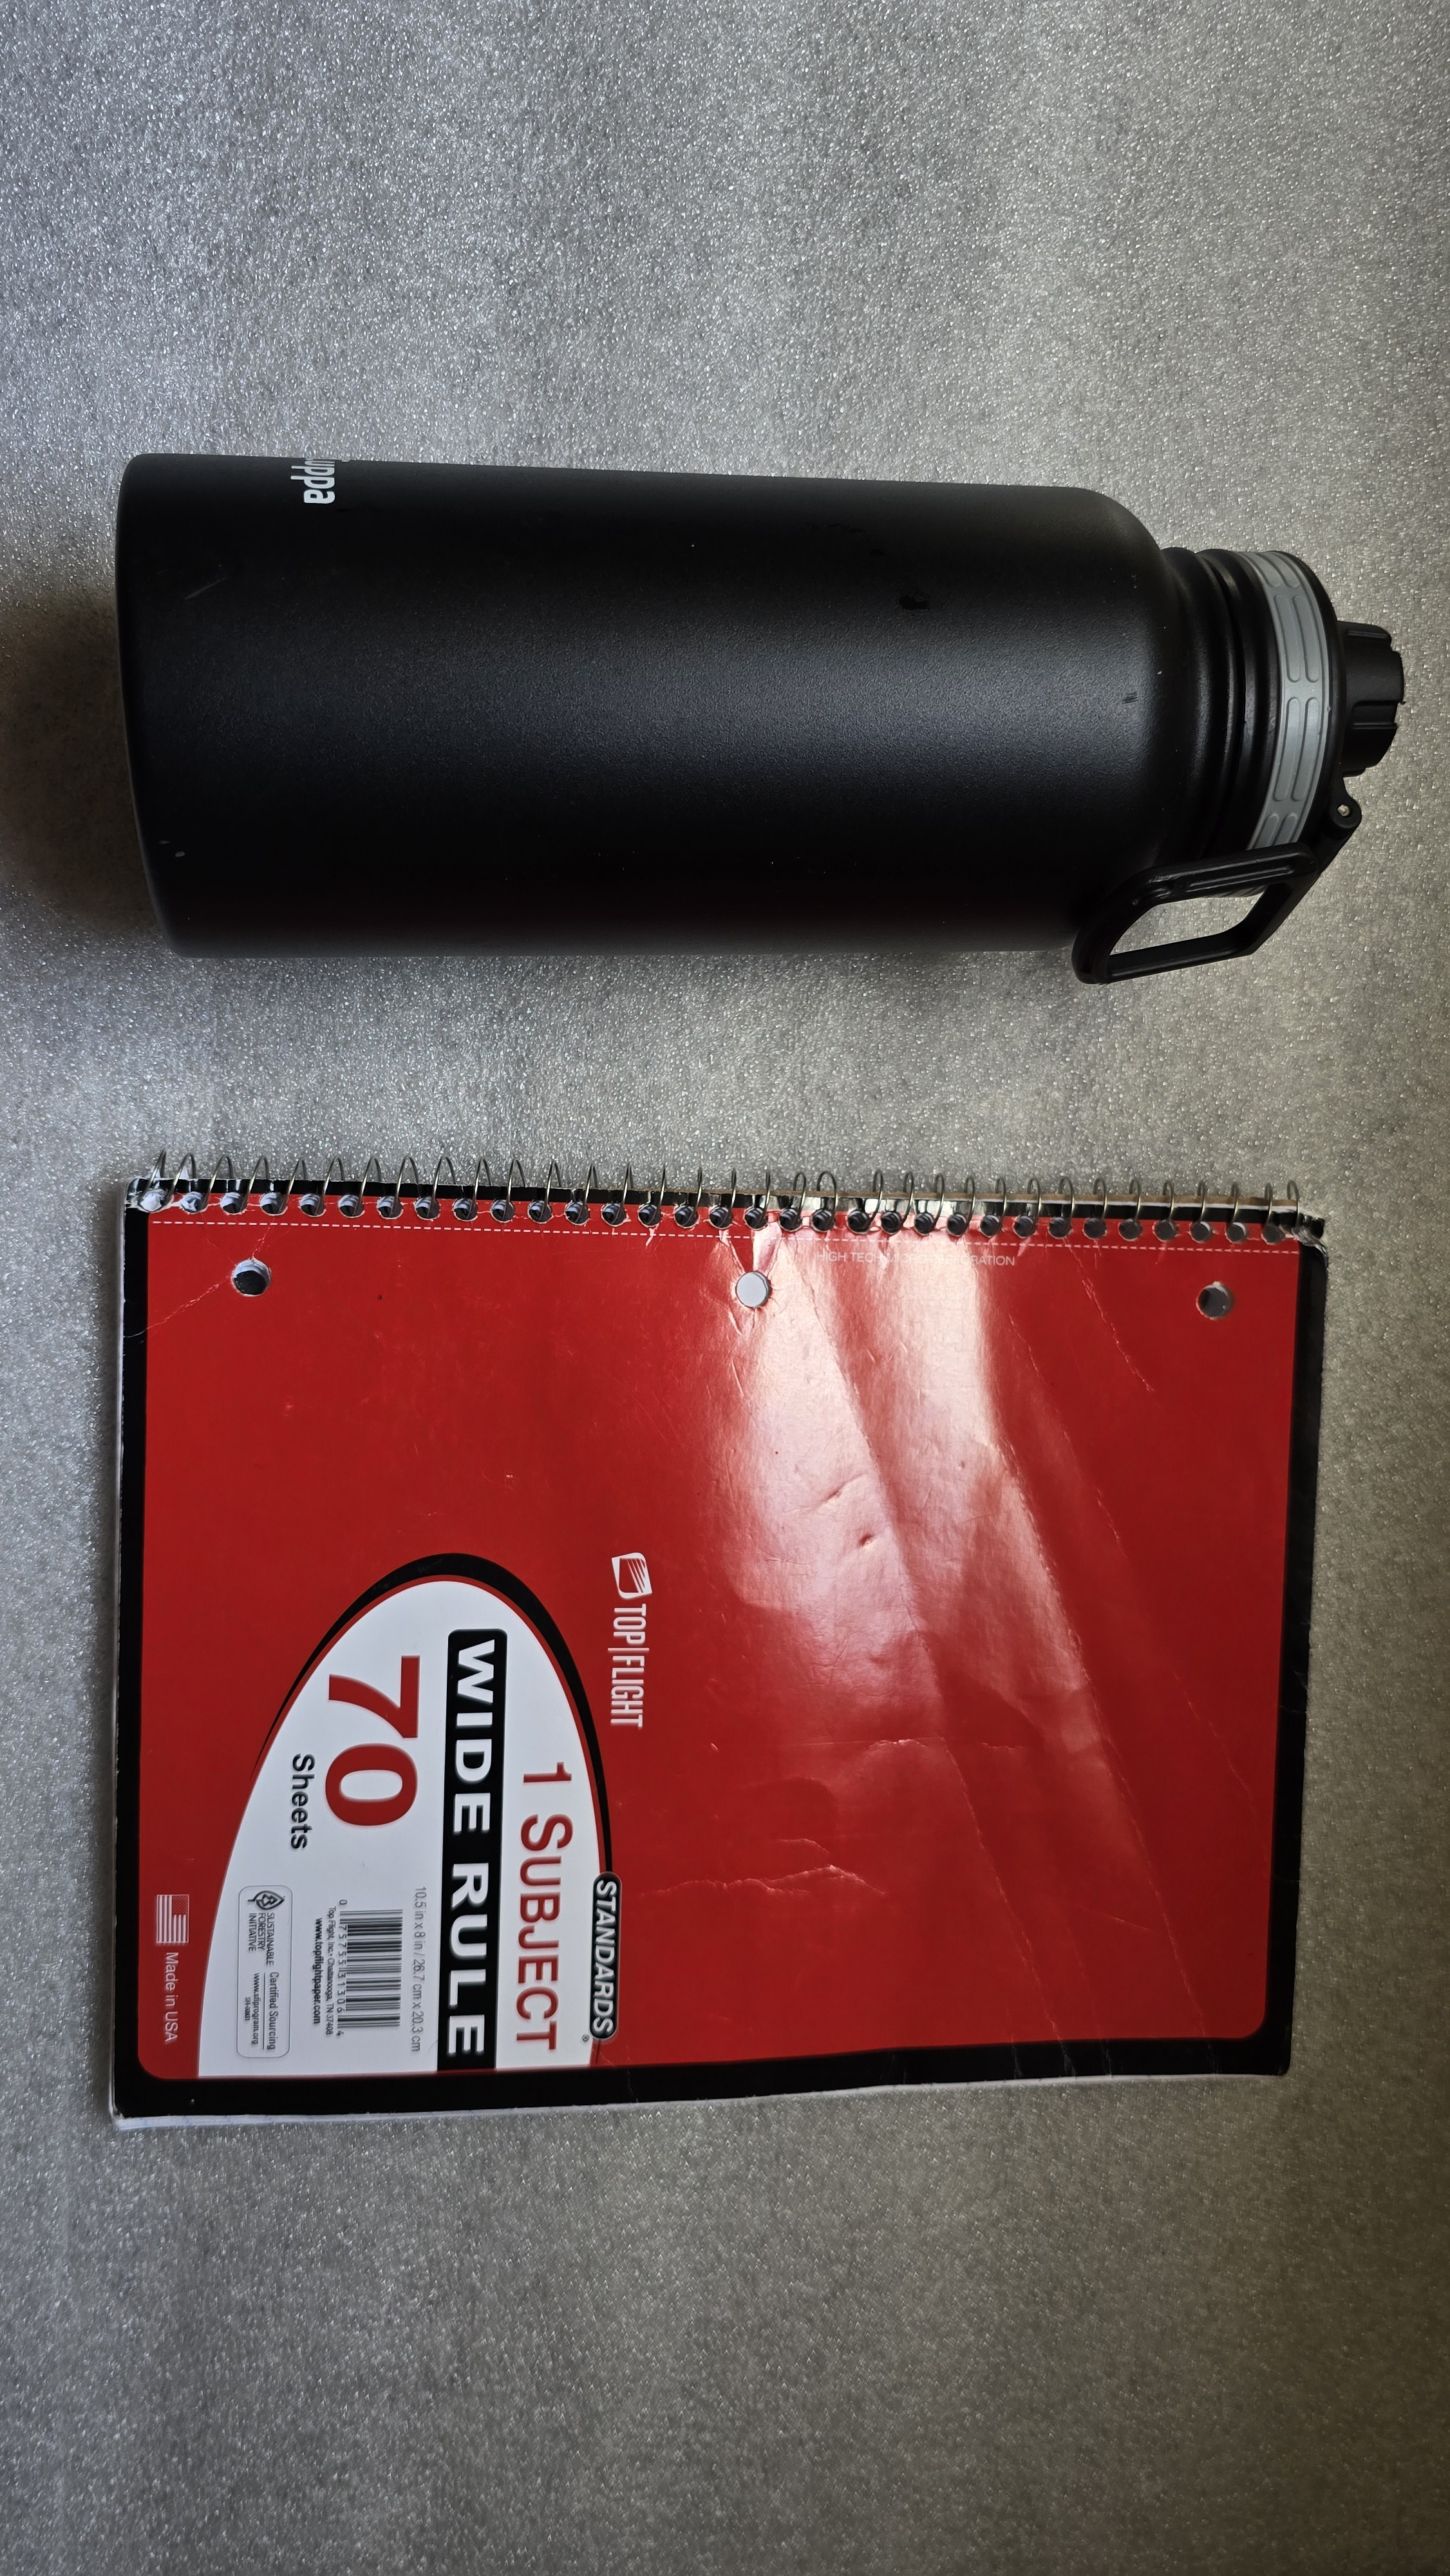bottle: (93, 413, 1431, 974)
